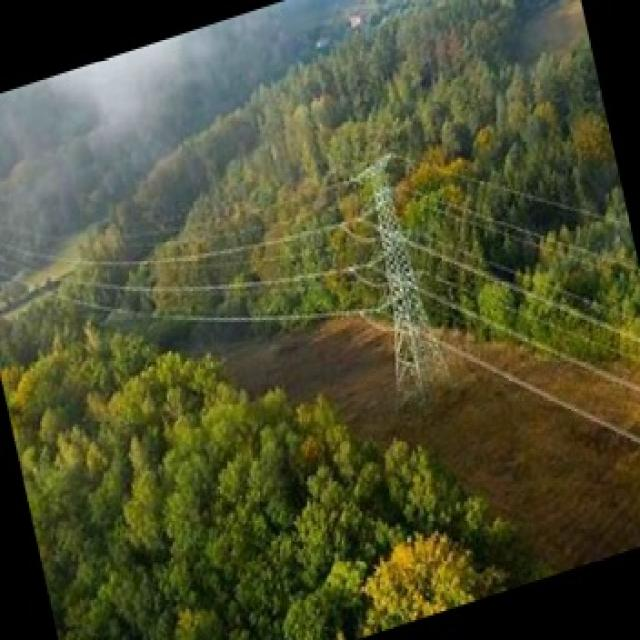utility poles: (333, 132, 477, 399)
